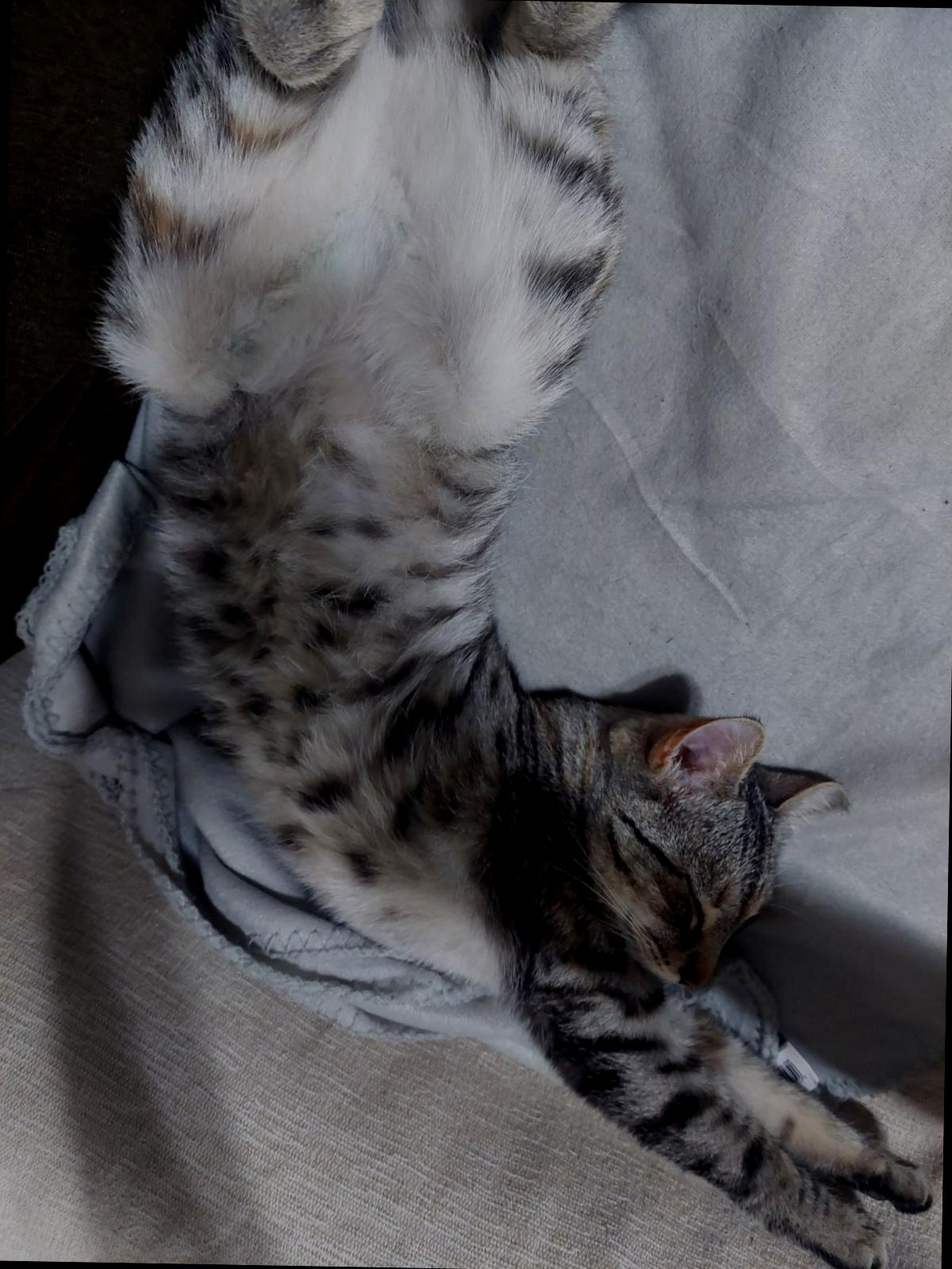macka: (90, 0, 952, 1269)
